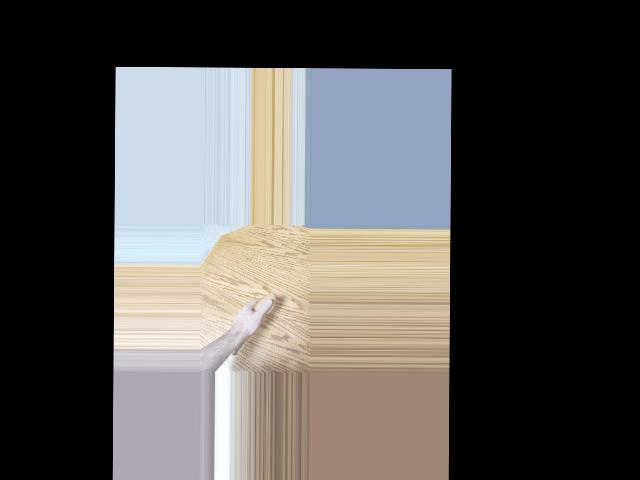sweet_potato: (226, 291, 276, 358)
